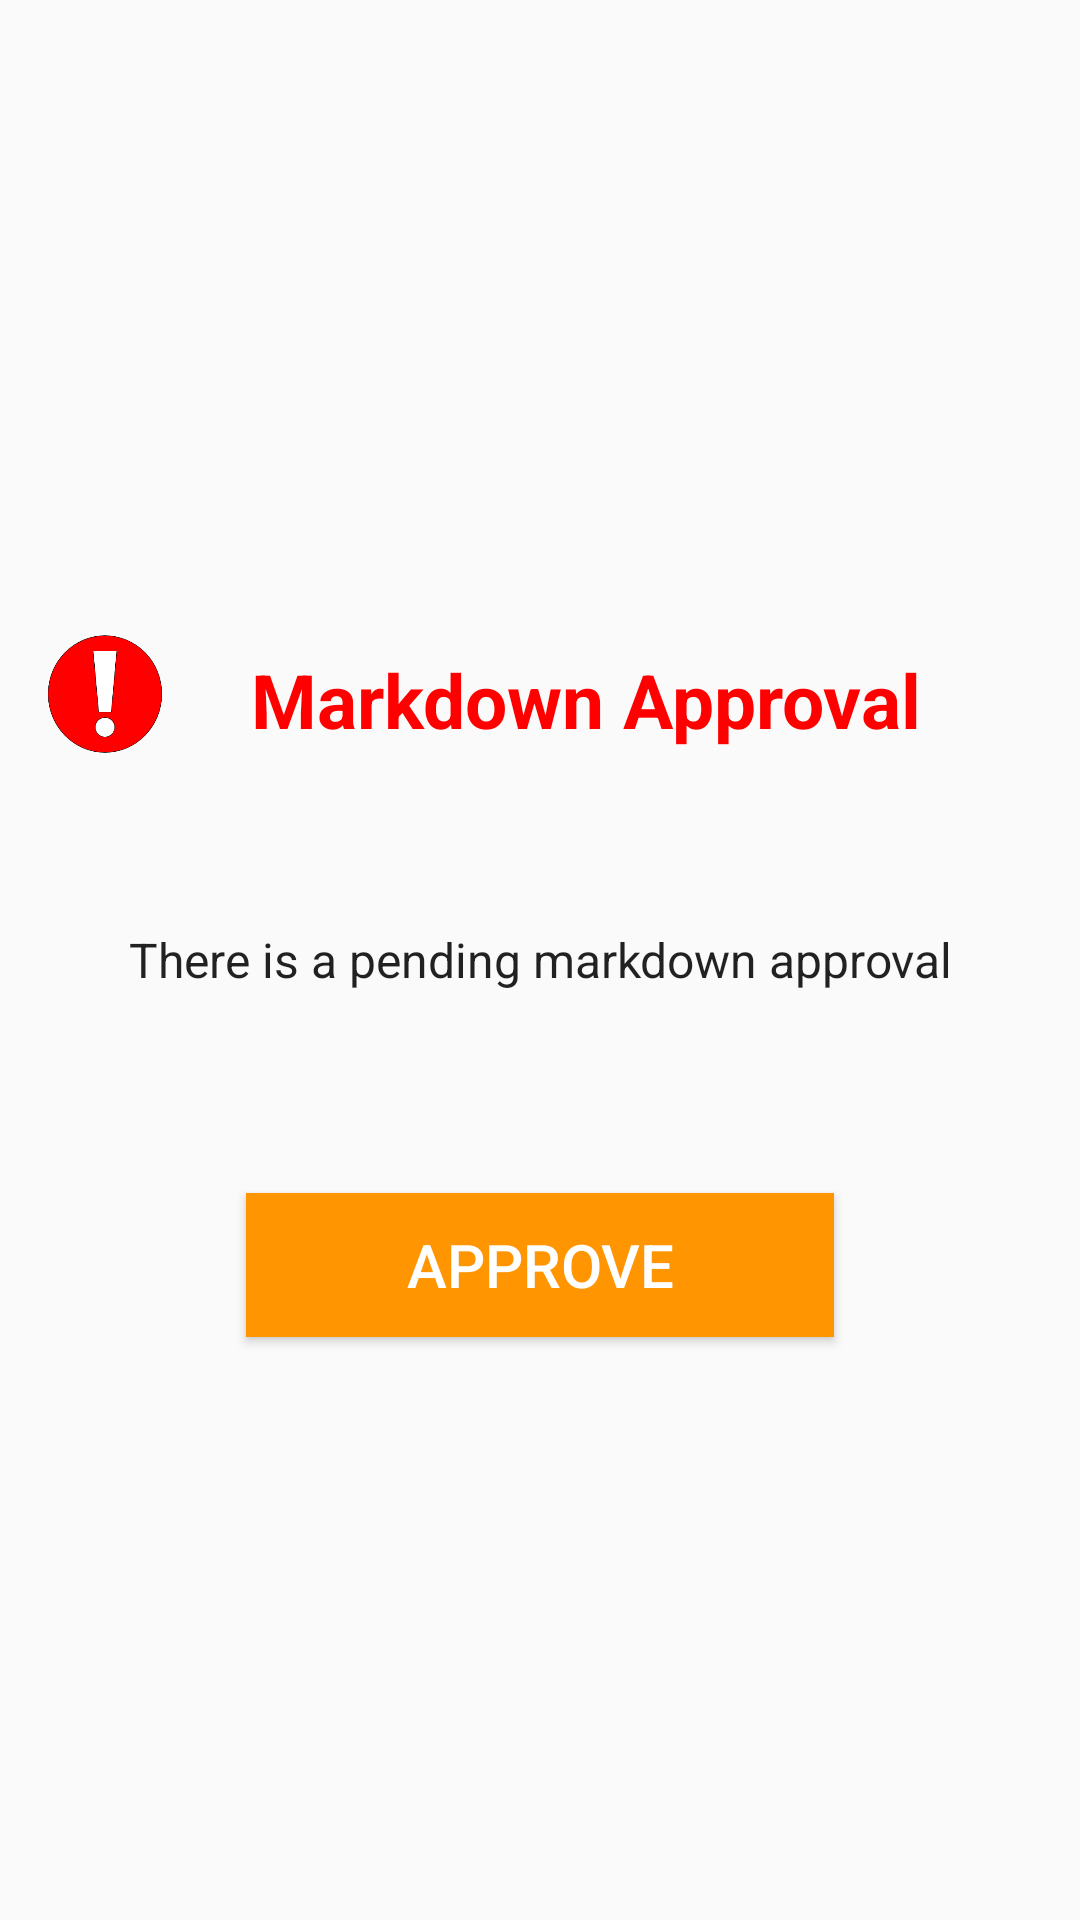

Icons on this 1080w x 1920h Android screen, each with the point to tap as (x=x, y=y):
alertmessage: (x=105, y=694)
